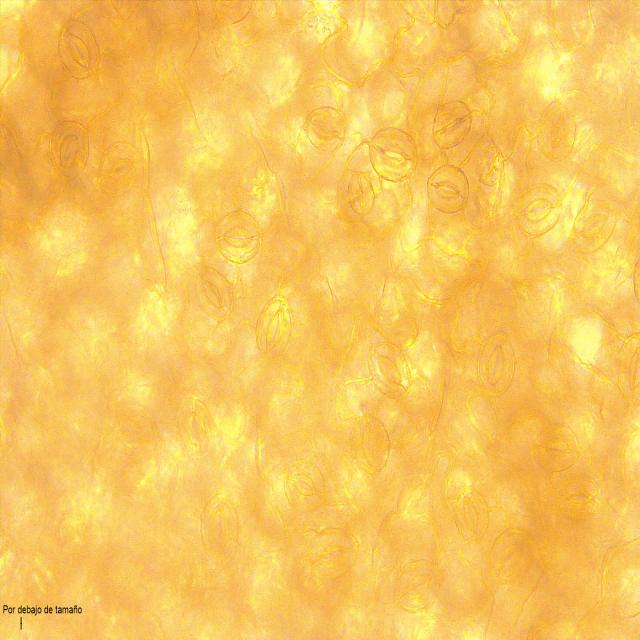Stomata: (368, 126, 418, 184), (307, 529, 359, 582), (213, 210, 264, 264), (394, 558, 442, 614), (255, 295, 293, 364), (368, 342, 412, 401), (202, 494, 238, 566), (58, 20, 100, 80), (97, 140, 142, 196), (476, 332, 514, 397), (514, 184, 562, 235), (572, 198, 616, 253), (50, 120, 90, 180), (488, 528, 533, 581), (283, 459, 325, 513), (351, 416, 390, 474), (538, 101, 576, 160), (177, 399, 214, 459), (532, 425, 579, 472), (426, 164, 469, 214), (453, 486, 490, 544), (194, 268, 234, 321), (557, 475, 602, 520), (432, 99, 472, 149), (306, 106, 346, 152), (616, 332, 640, 400), (347, 171, 375, 216), (476, 146, 504, 186)
